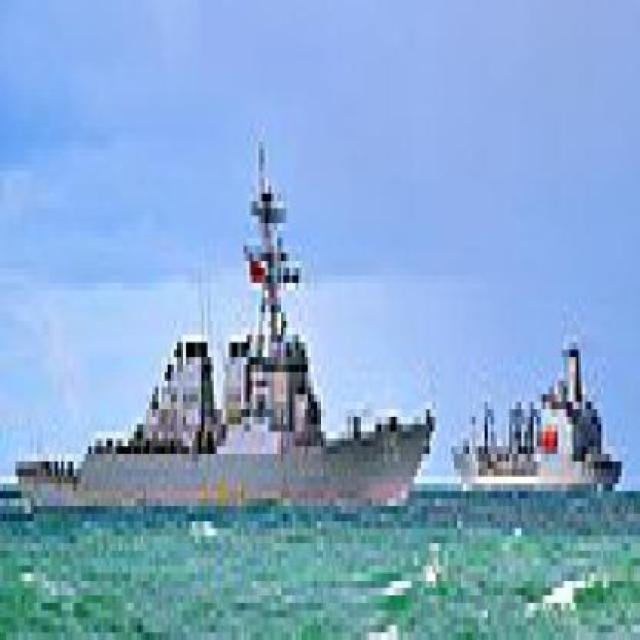warship2: (19, 135, 446, 530)
